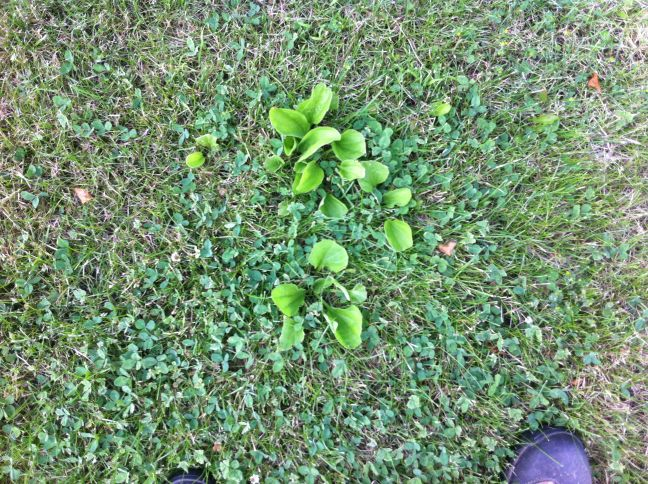weed1: (263, 80, 368, 196), (268, 240, 365, 355), (322, 156, 417, 254)
